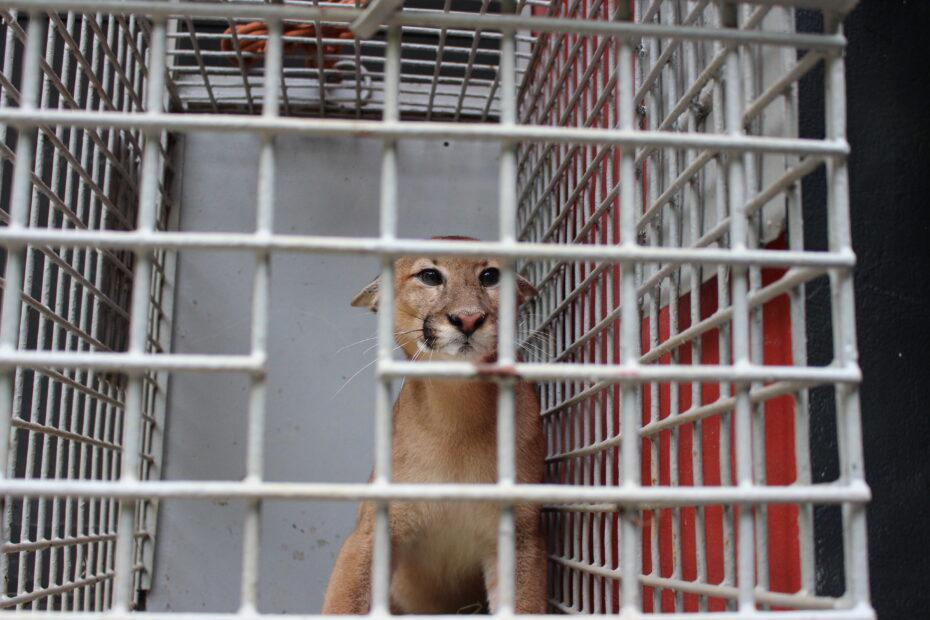OncaParda: (339, 224, 560, 618)
